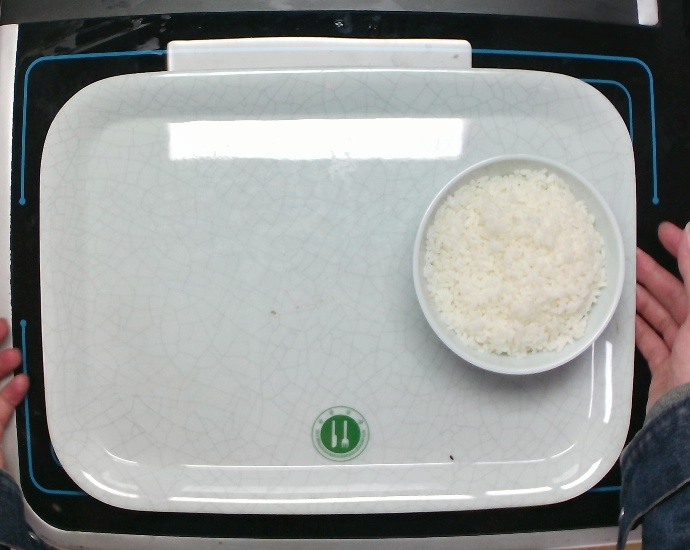JYsf-Fan_Wan: (411, 151, 626, 378)
